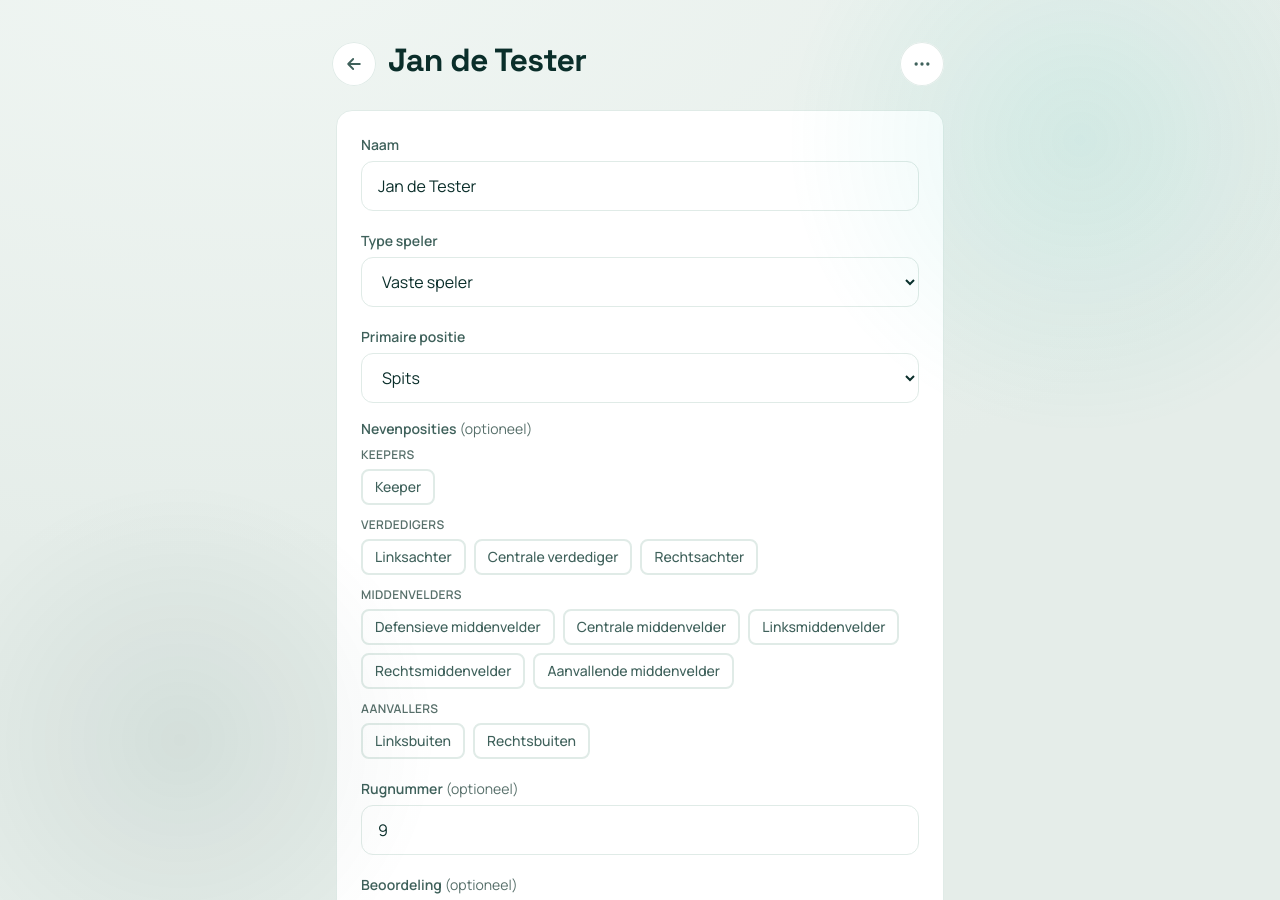
Test: AC3 — /players/[id]/edit blijft zelfstandig werken › rendert de bestaande bewerkvelden onveranderd
This screenshot has width=1280, height=900.
Expected: the field showing "Jan de Tester" is shown, top-left (361, 161), bottom-right (919, 211)
Click the button named "Meer acties": click(922, 64) top-left (900, 42), bottom-right (944, 86)
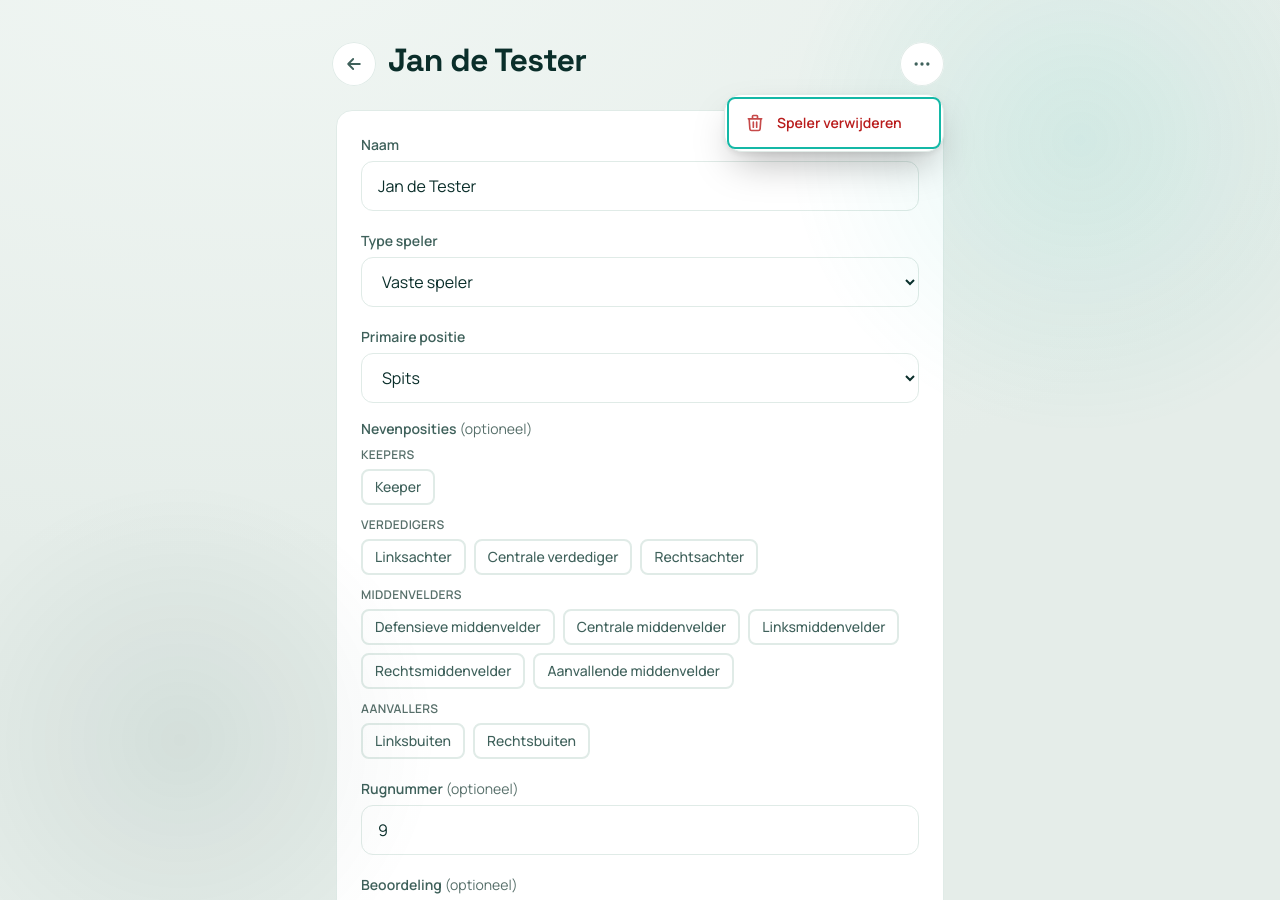
Expected: the menu item "Speler verwijderen" is shown, top-left (731, 101), bottom-right (937, 145)
